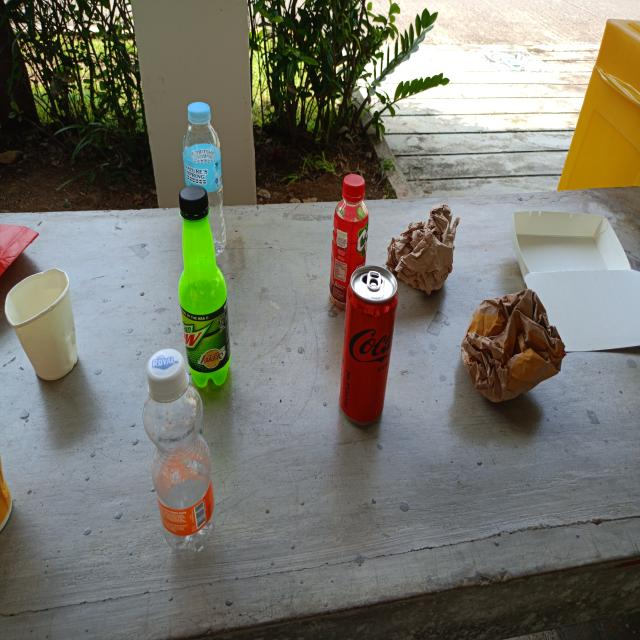Anorganik: (145, 350, 217, 564), (177, 189, 235, 391), (176, 98, 228, 264)
Organik: (511, 206, 640, 354), (462, 284, 568, 404), (4, 270, 84, 382), (384, 203, 464, 296)
